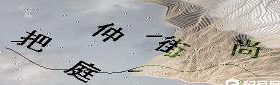chinese: (227, 31, 265, 60), (16, 26, 49, 53), (65, 60, 101, 80), (154, 35, 185, 57), (94, 23, 122, 47)
